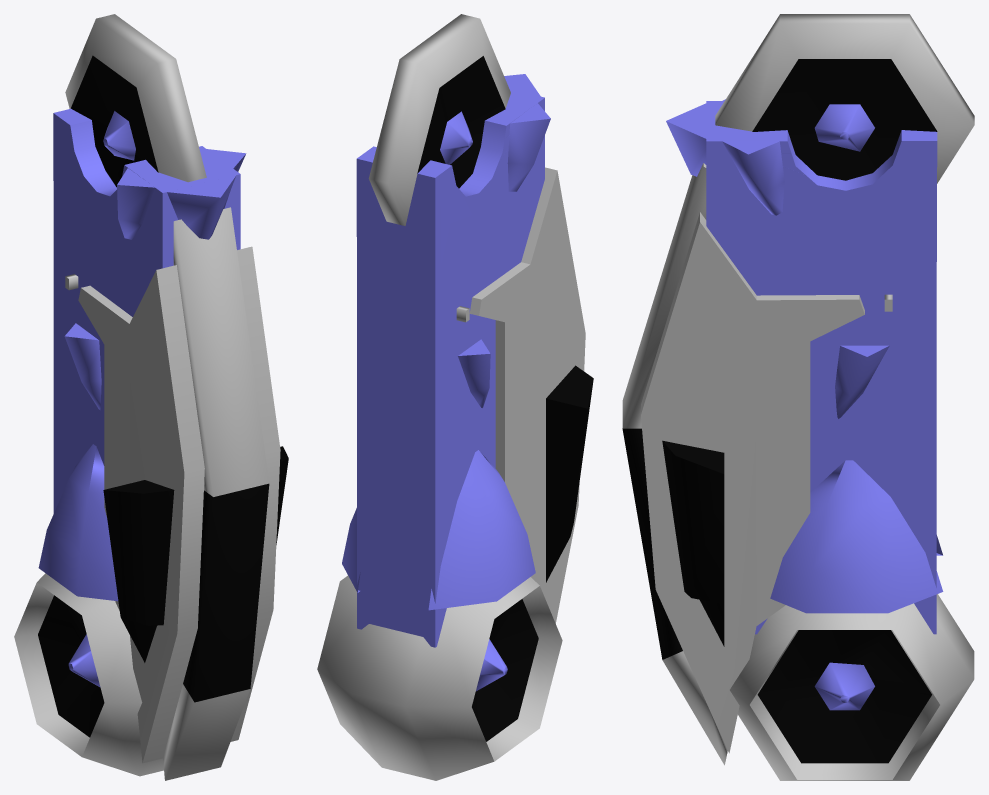
File: lightcycle med.obj
The picture shows the model from 3 angles, left to right: view 1: azimuth 30°, elevation 25°; view 2: azimuth 150°, elevation 25°; view 3: azimuth 270°, elevation 25°; orthographic projection. The views are drawn at different scales.
Bounding box in the file's own units: 93.51 × 353 × 150.
